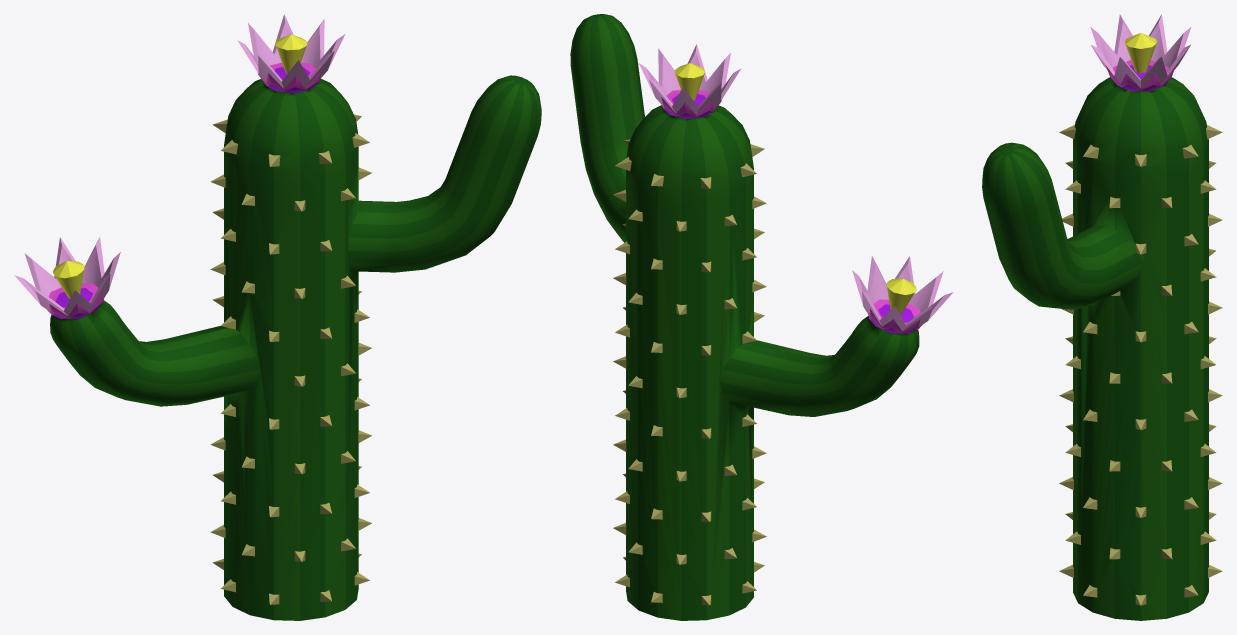
File: SM_Cactus_3.fbx
3 views of the same model, side by side, from view 1: azimuth 30°, elevation 25°; view 2: azimuth 150°, elevation 25°; view 3: azimuth 270°, elevation 25° (orthographic). The views are drawn at different scales.
Visible parts, largest first — view 1: Cactus 3; view 2: Cactus 3; view 3: Cactus 3.
Boxes of the visible parts, <box> form: Cactus 3: <box>14,14,541,620</box>; Cactus 3: <box>570,14,952,620</box>; Cactus 3: <box>982,14,1222,620</box>.
Size of the model in its own units: 217 by 257 by 100.
